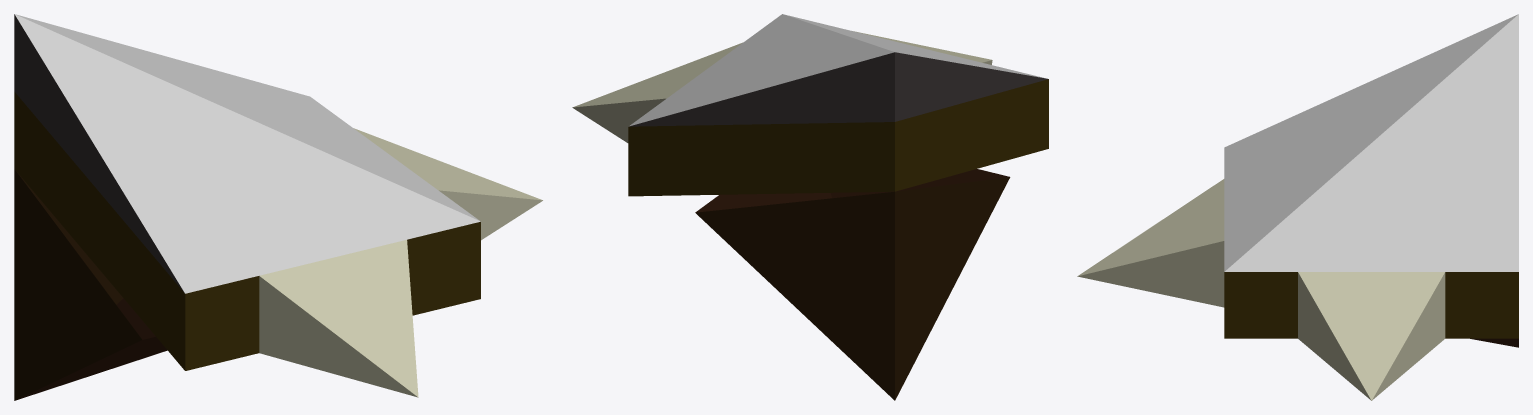
File: model_loc_1667_v.obj
The picture shows the model from 3 angles, left to right: view 1: azimuth 30°, elevation 25°; view 2: azimuth 150°, elevation 25°; view 3: azimuth 270°, elevation 25°; orthographic projection. The views are drawn at different scales.
Parts seen in each view (by area): view 1: 948; view 2: 948; view 3: 948.
Part boxes in pixels (box(x1,y1,x2,y2)): 948: box(14, 14, 542, 400); 948: box(572, 14, 1048, 400); 948: box(1077, 14, 1518, 400).
Bounding box in the file's own units: 48 × 40 × 48.
